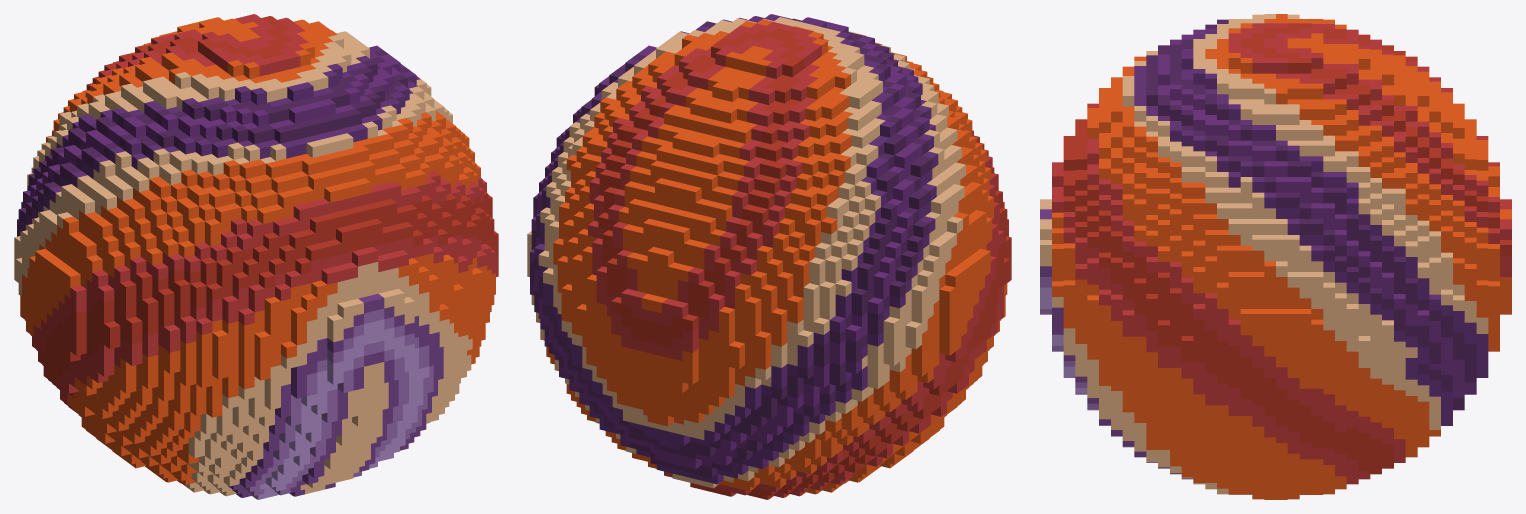
Rendered from ничто и сразу все 1.obj.
The picture shows the model from 3 angles, left to right: view 1: azimuth 30°, elevation 25°; view 2: azimuth 150°, elevation 25°; view 3: azimuth 270°, elevation 25°; orthographic projection.
Bounding box in the file's own units: 4 × 4 × 4.
Materials: 1 (1 with a texture image).
